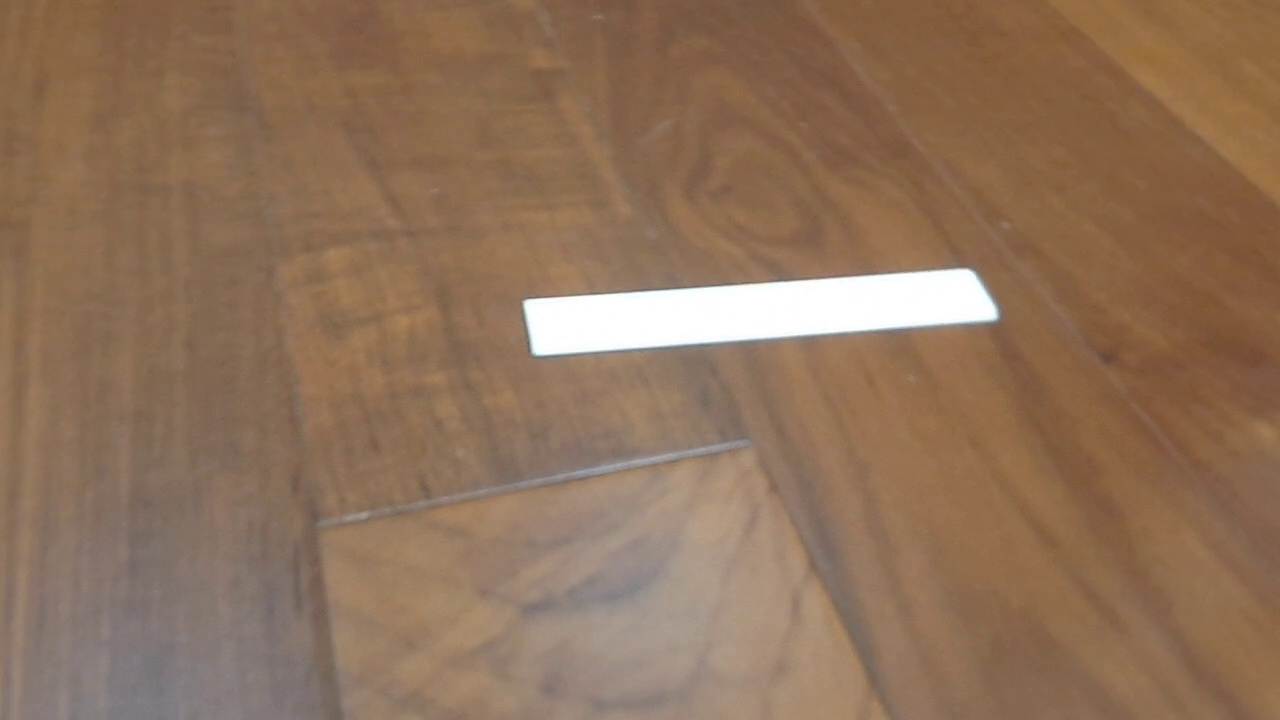ruler: (521, 265, 1001, 358)
